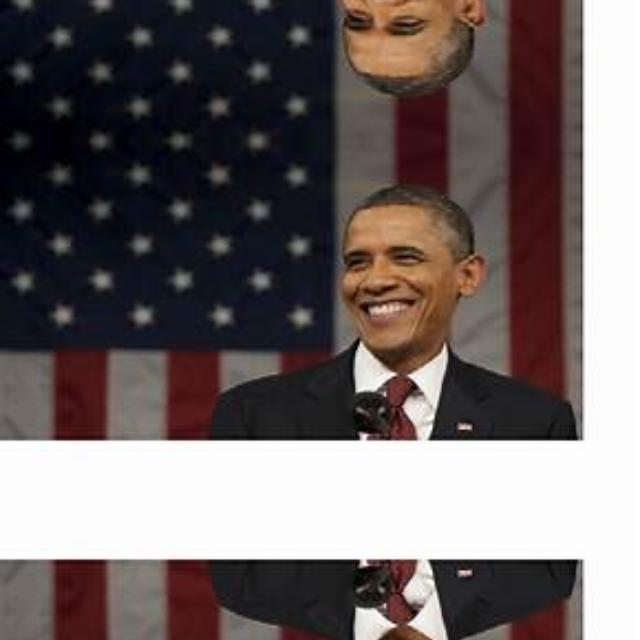person: (274, 181, 546, 479), (273, 520, 546, 640), (273, 0, 546, 99)
